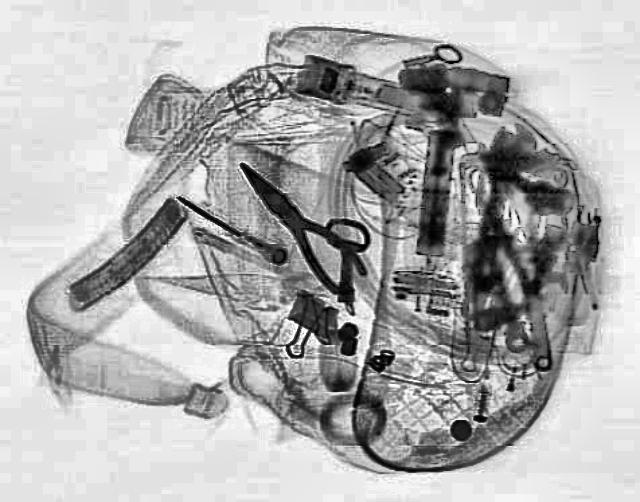Pliers: (216, 150, 374, 296)
Wrench: (482, 120, 568, 372)
